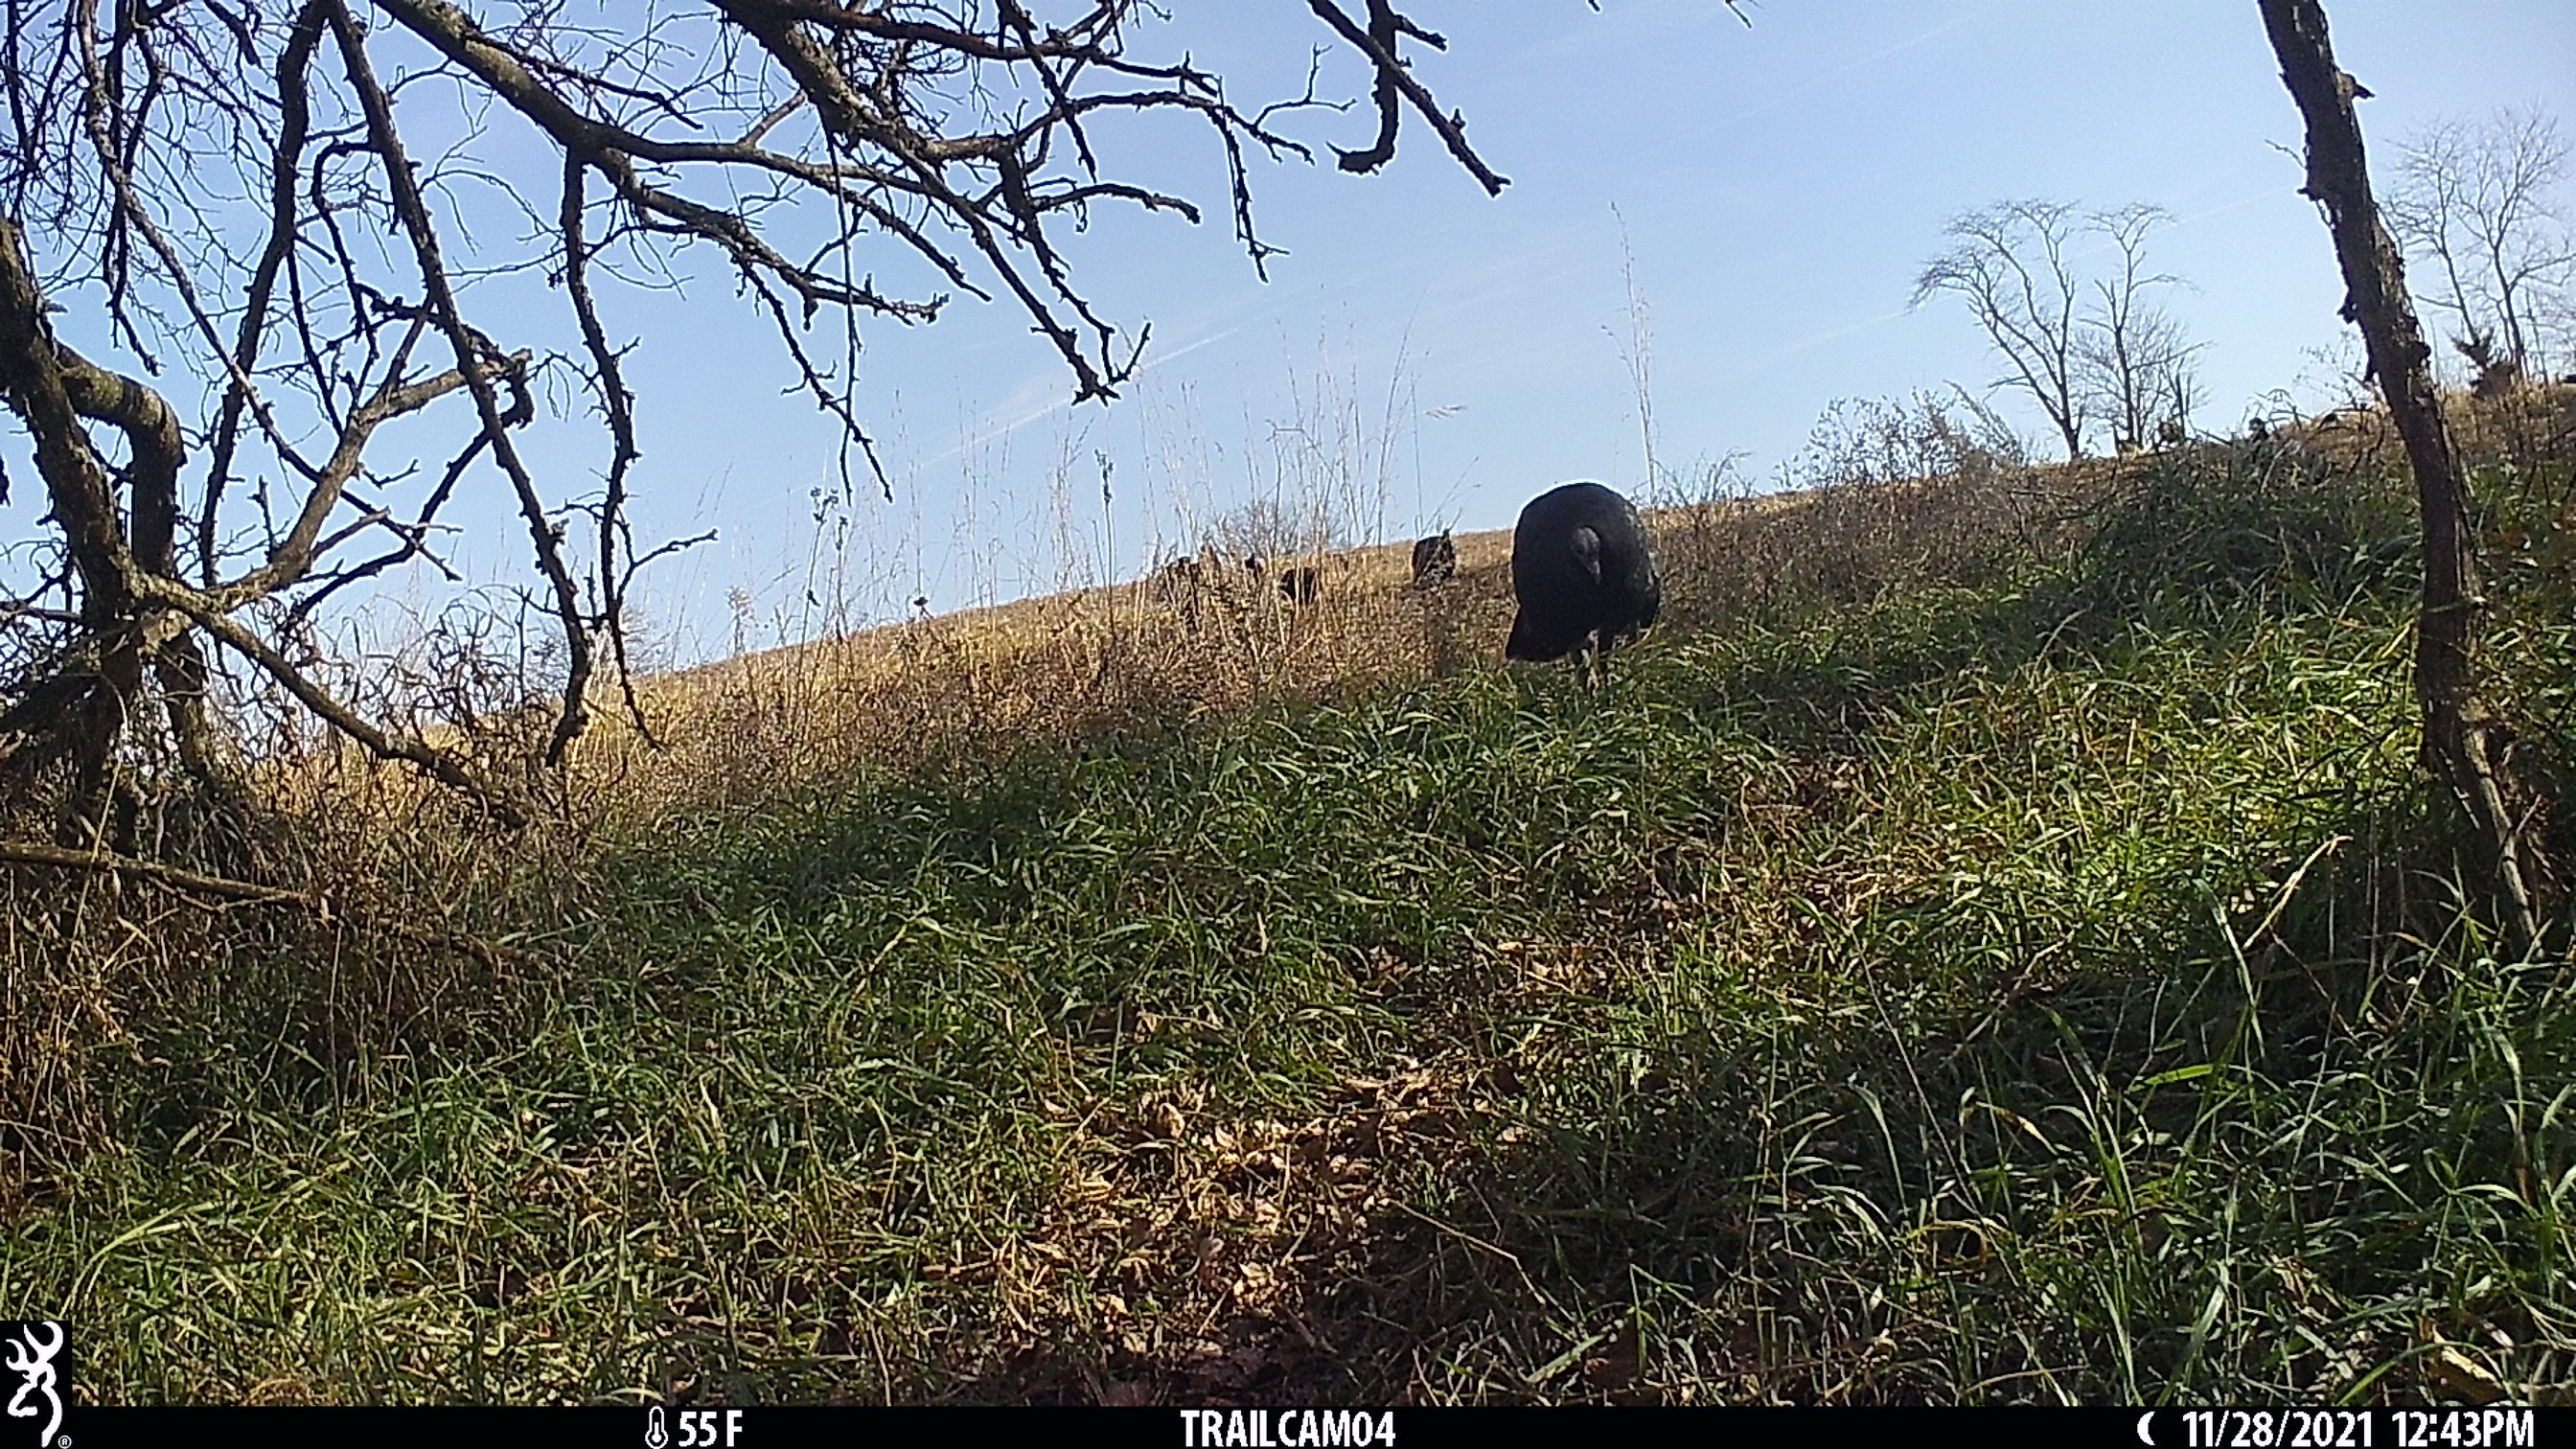Turkey: (1507, 469, 1658, 674), (1412, 520, 1456, 589)
